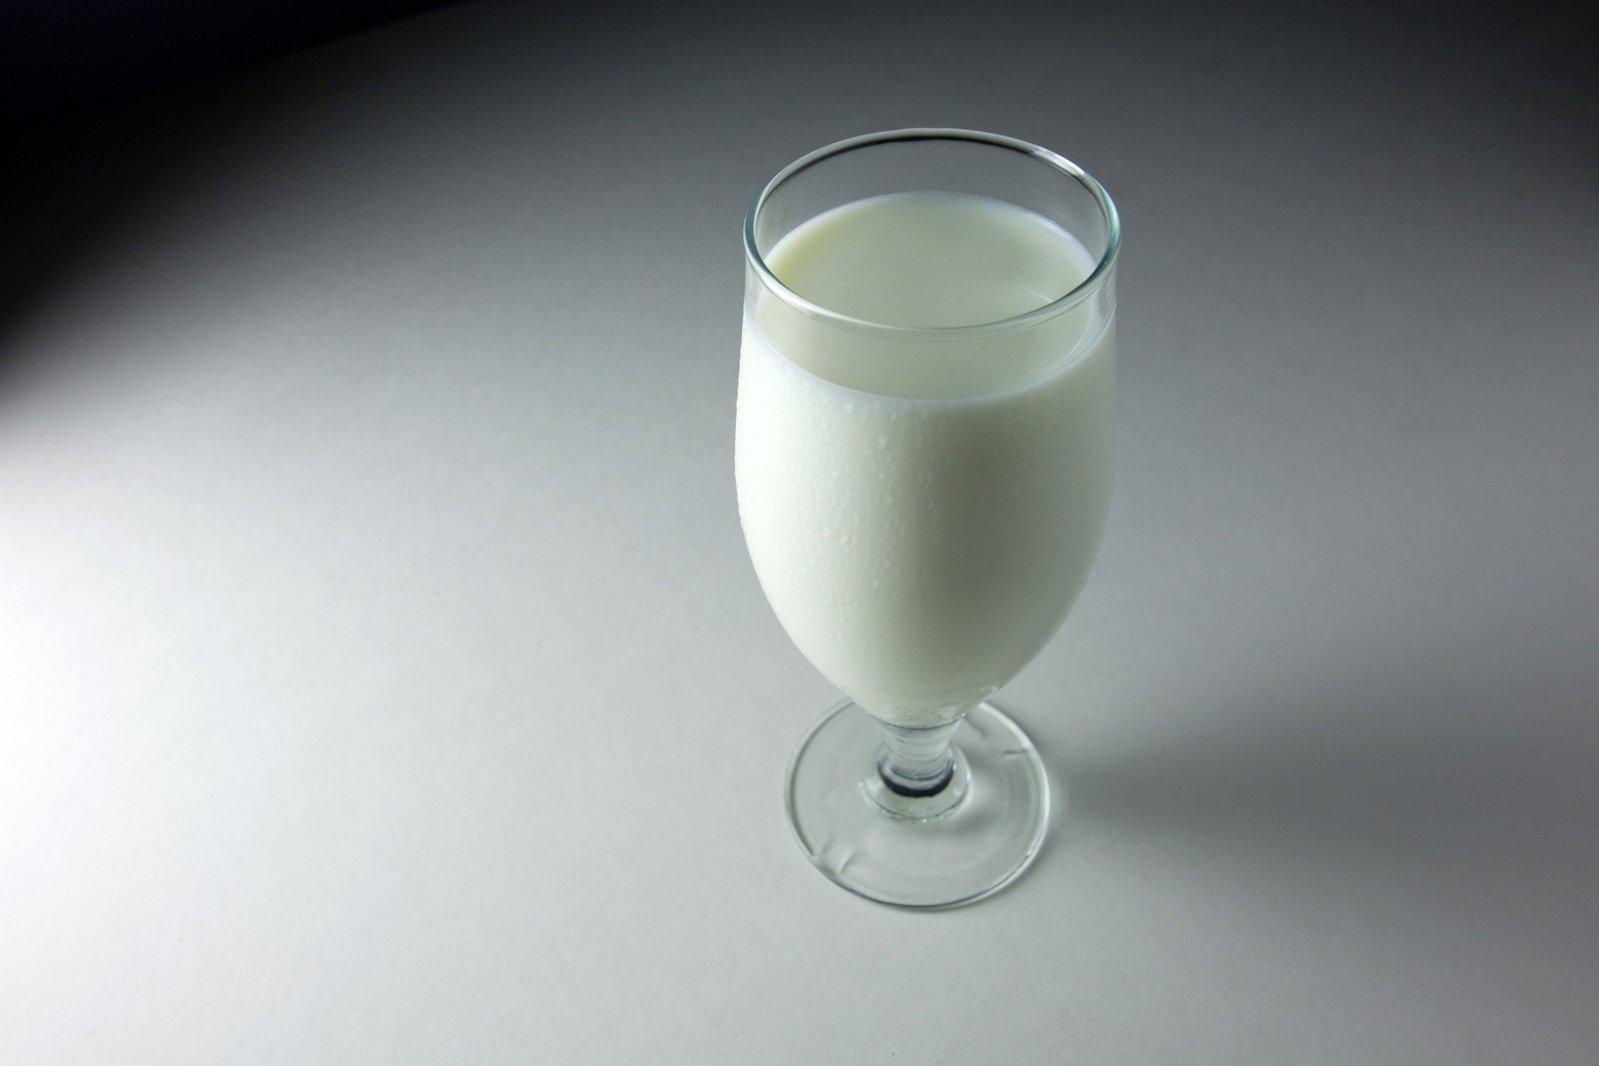glass of milk: (755, 145, 1083, 909)
